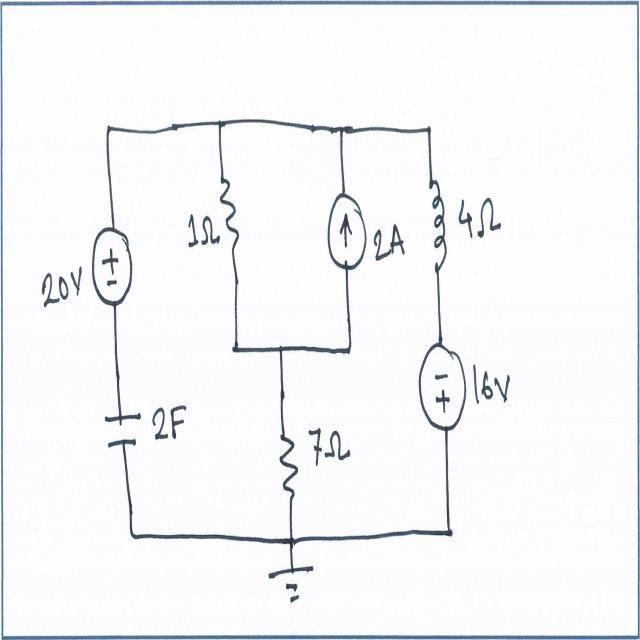capacitor: (99, 404, 145, 460)
current_source: (323, 182, 370, 278)
ground: (266, 555, 321, 612)
inductor: (425, 164, 450, 279)
resistor: (218, 165, 244, 267), (276, 416, 302, 510)
voltage_source: (412, 332, 468, 441), (88, 214, 138, 314)
